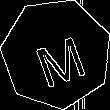M_N: (26, 22, 87, 85)
